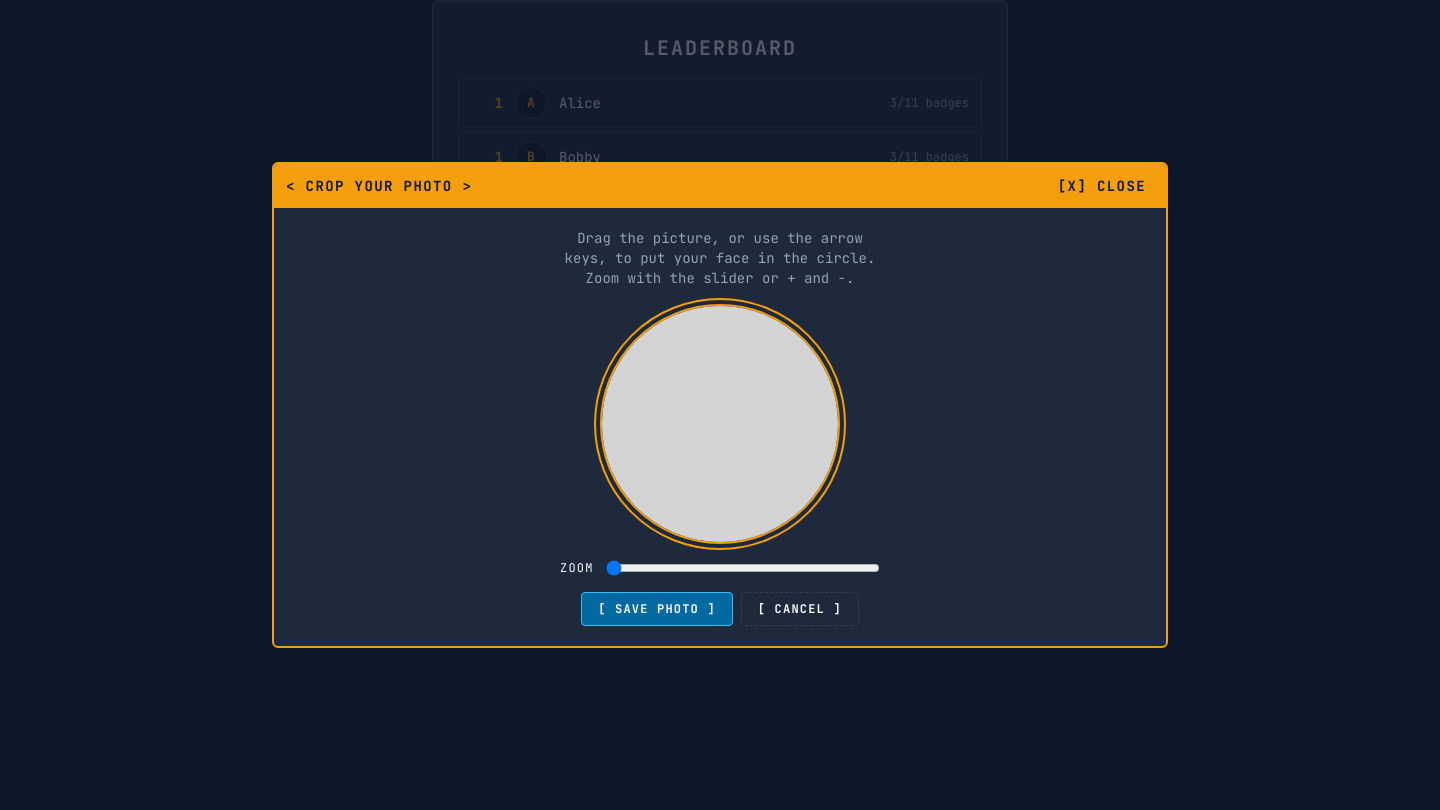
Test: Leaderboard › photos › Cancel in the crop window saves nothing and keeps what you had
Earlier steps of the test are not shown.
Expected: the button "[ Change photo ]" is shown, [636,308,804,342]
Click the button "[ Cancel ]" at (800, 609), box [741,592,859,626]
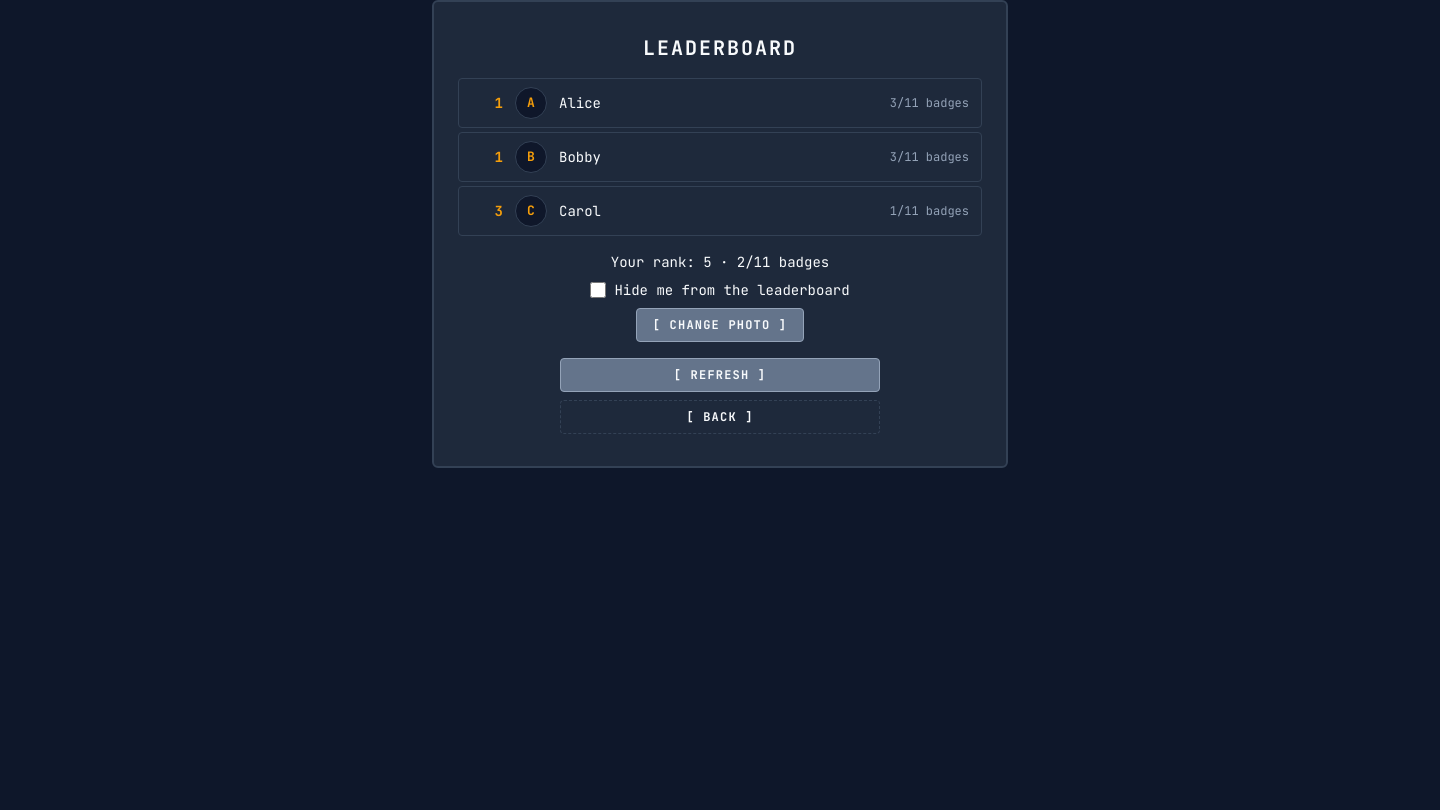
Expected: the dialog is gone
